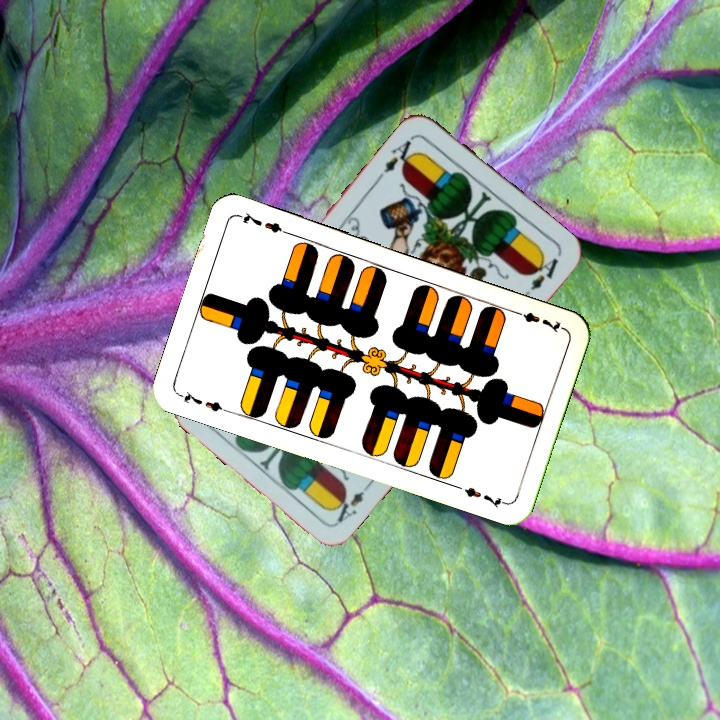E7: (508, 306, 566, 336), (175, 386, 232, 416)
EA: (327, 476, 376, 526), (380, 132, 421, 176)
